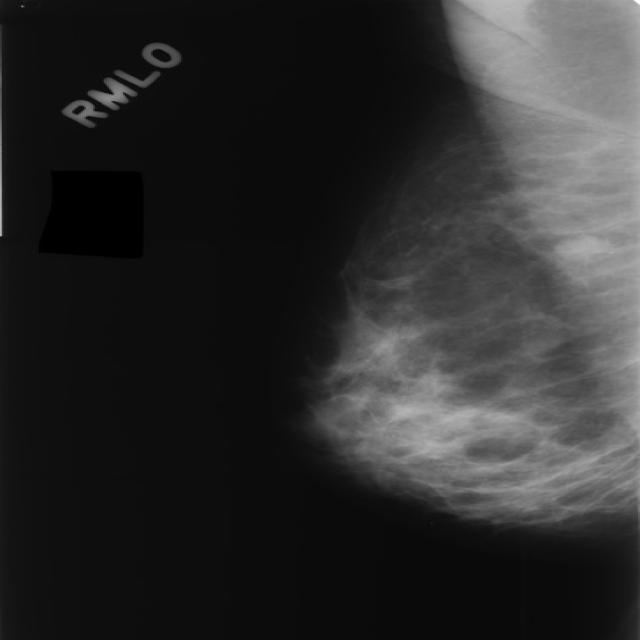tumour: (552, 233, 610, 263)
